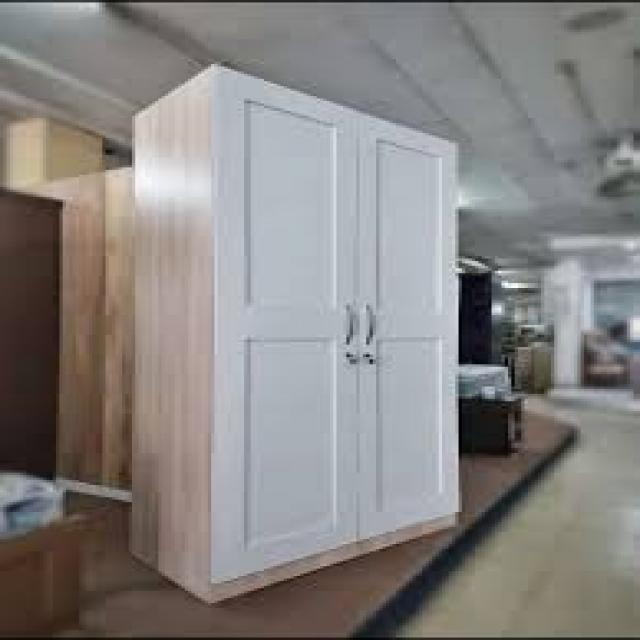Lemari: (209, 62, 461, 605)
